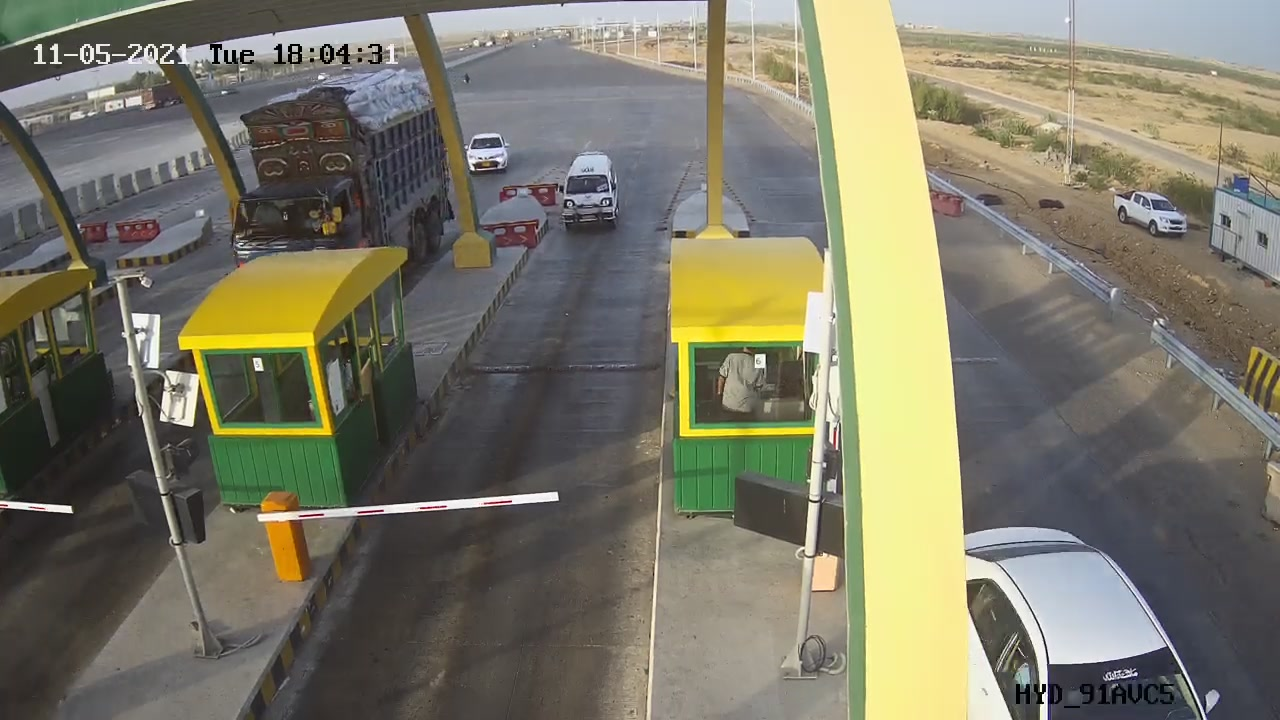F1: (540, 143, 635, 242)
